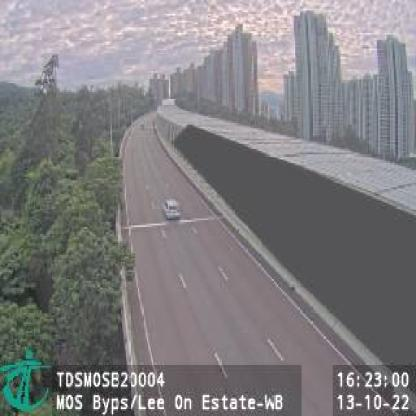Car: (163, 196, 181, 218)
